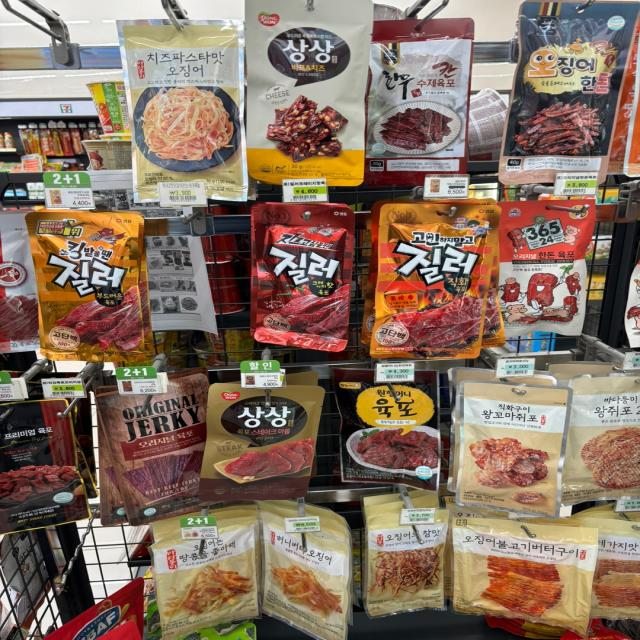product: (119, 20, 245, 197), (248, 2, 361, 185), (28, 212, 149, 362), (517, 1, 628, 160), (373, 204, 485, 357), (253, 205, 360, 348), (462, 384, 576, 516), (465, 515, 600, 619), (211, 383, 323, 495), (496, 198, 593, 326), (154, 527, 255, 619), (262, 526, 348, 632)
